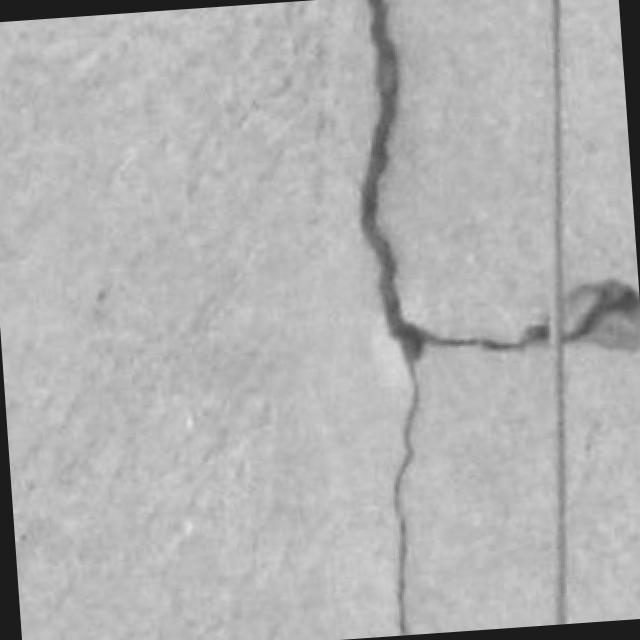crack: (359, 0, 639, 635), (359, 0, 423, 635), (414, 320, 550, 351)
